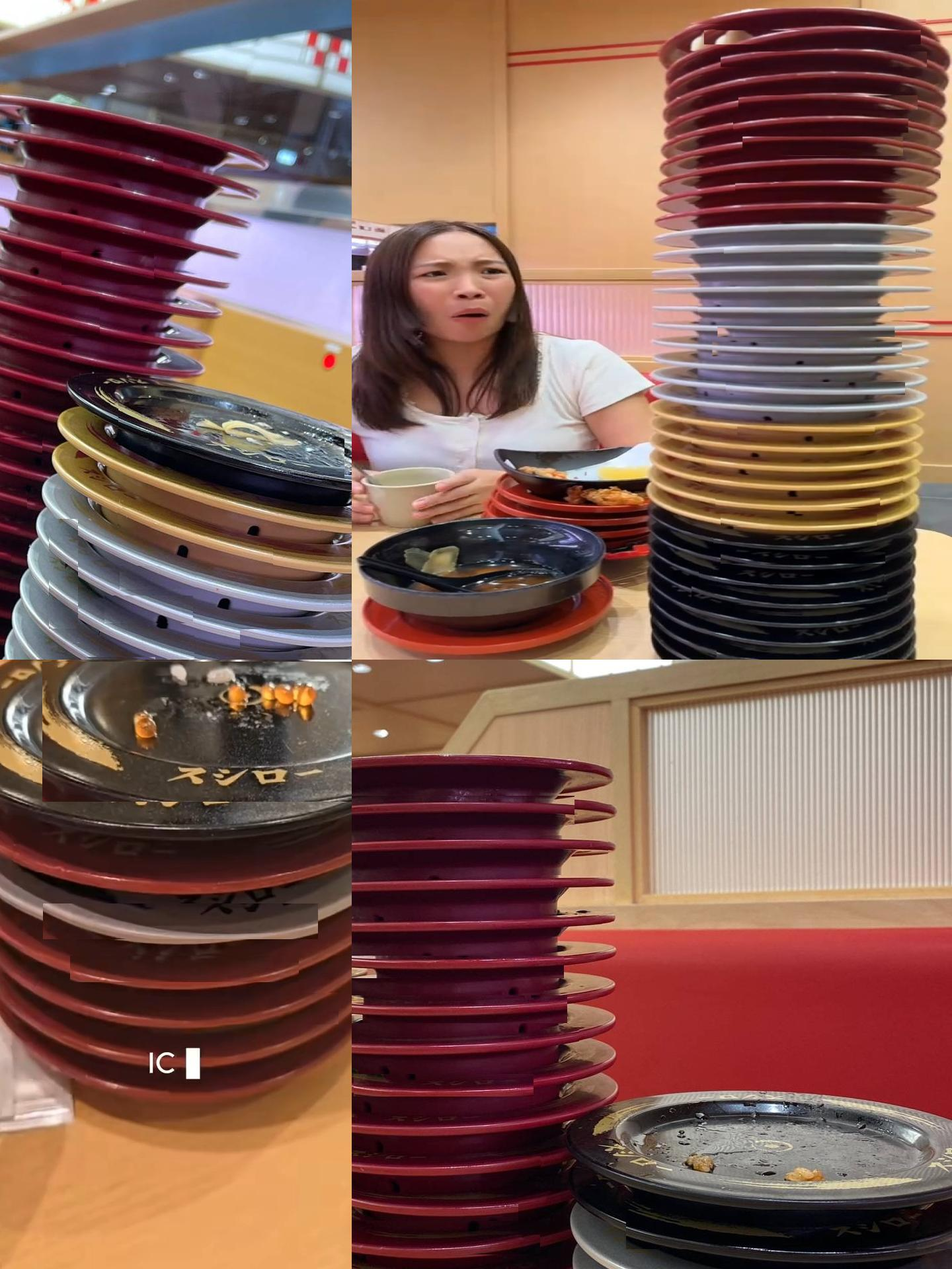Janback: (13, 660, 352, 814), (579, 1095, 952, 1193), (612, 1208, 952, 1251), (116, 400, 324, 447), (200, 449, 325, 482), (352, 610, 553, 630), (352, 585, 543, 604), (352, 570, 536, 586), (356, 551, 547, 565), (357, 533, 554, 545), (354, 634, 538, 645), (354, 648, 531, 659)
Jangold: (187, 502, 325, 538), (352, 438, 562, 457), (352, 477, 552, 495), (353, 460, 547, 474), (273, 545, 352, 573), (365, 514, 531, 527), (84, 459, 168, 484), (357, 498, 536, 509), (374, 426, 536, 437), (115, 507, 174, 529)
Janred: (352, 745, 625, 788), (9, 839, 352, 873), (352, 835, 610, 875), (56, 993, 341, 1025), (49, 953, 321, 985), (352, 793, 597, 828), (352, 1028, 582, 1063), (0, 93, 233, 125), (352, 993, 580, 1025), (352, 879, 611, 905), (352, 1113, 554, 1143), (352, 1154, 547, 1185), (352, 954, 583, 980), (22, 1017, 151, 1061), (352, 916, 612, 937), (352, 1072, 548, 1099), (59, 182, 204, 216), (352, 1196, 530, 1223), (366, 158, 593, 179), (352, 1233, 550, 1256), (38, 139, 168, 174), (0, 295, 104, 338), (354, 74, 600, 92), (377, 135, 566, 158), (359, 51, 587, 69), (55, 250, 161, 288), (352, 29, 584, 46), (352, 8, 583, 25), (378, 203, 583, 222), (375, 182, 577, 200), (0, 204, 97, 241), (372, 95, 582, 112), (371, 118, 567, 134), (220, 1063, 326, 1091), (0, 348, 72, 388), (0, 399, 47, 432), (0, 459, 39, 489), (0, 436, 45, 456), (0, 520, 32, 547), (0, 487, 28, 512), (0, 574, 15, 601), (0, 551, 13, 576)
Janwhite: (28, 902, 334, 941), (352, 284, 580, 303), (48, 514, 80, 633), (352, 225, 590, 241), (94, 627, 200, 660), (352, 342, 561, 358), (352, 303, 559, 319), (234, 587, 352, 614), (360, 381, 569, 396), (352, 266, 588, 279), (231, 627, 352, 652), (355, 401, 522, 419), (102, 595, 196, 625), (352, 365, 568, 377), (113, 564, 203, 592), (352, 326, 559, 338), (355, 248, 582, 257)
